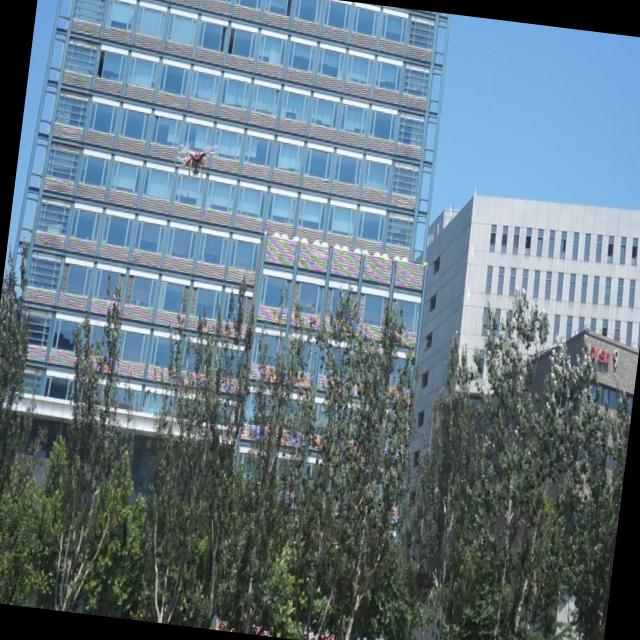drone: (172, 136, 221, 183)
